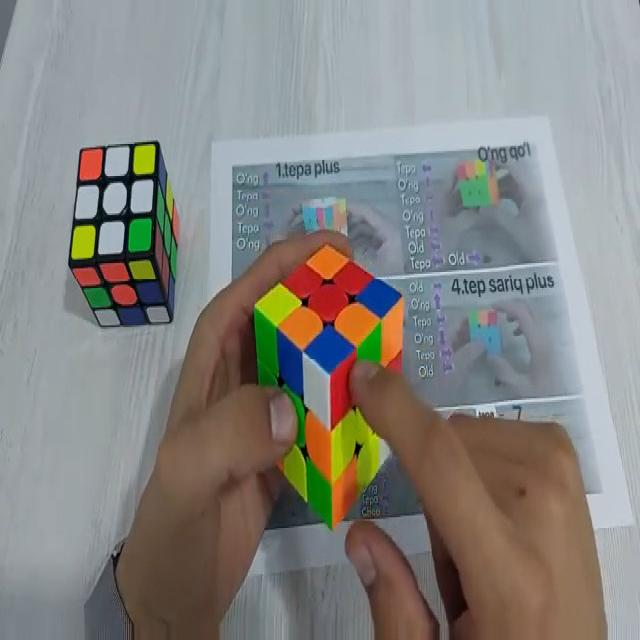Rub: (256, 246, 404, 527), (71, 138, 177, 326)
